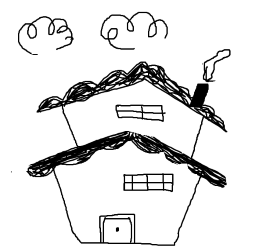closed_window: (112, 99, 171, 124), (119, 170, 178, 195)
clouds: (99, 12, 169, 50), (16, 15, 74, 56)
door: (94, 205, 141, 248)
shaded_roof: (36, 60, 230, 132), (26, 130, 226, 188)
smoking_chimney: (189, 42, 243, 110)
wall: (53, 140, 201, 245), (61, 79, 203, 157)
